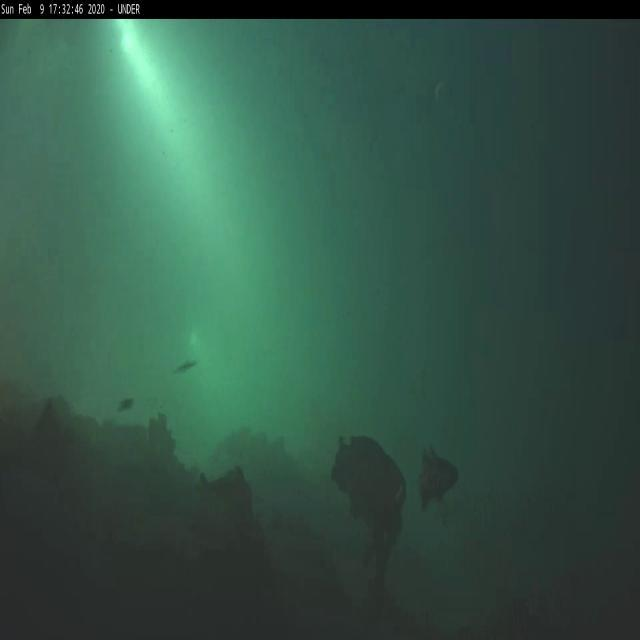fish: (414, 448, 460, 516)
